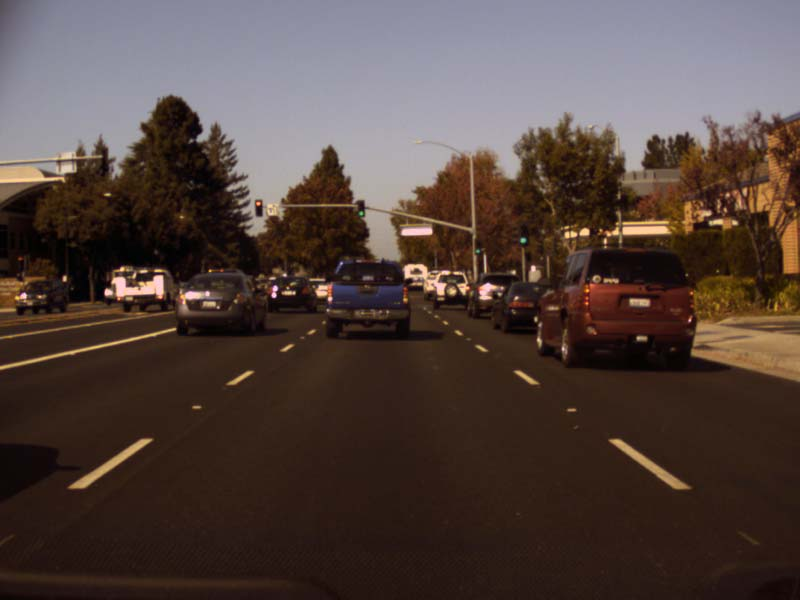Green: (517, 221, 529, 246), (355, 199, 365, 216), (474, 239, 482, 254)
Red: (253, 199, 262, 215)
